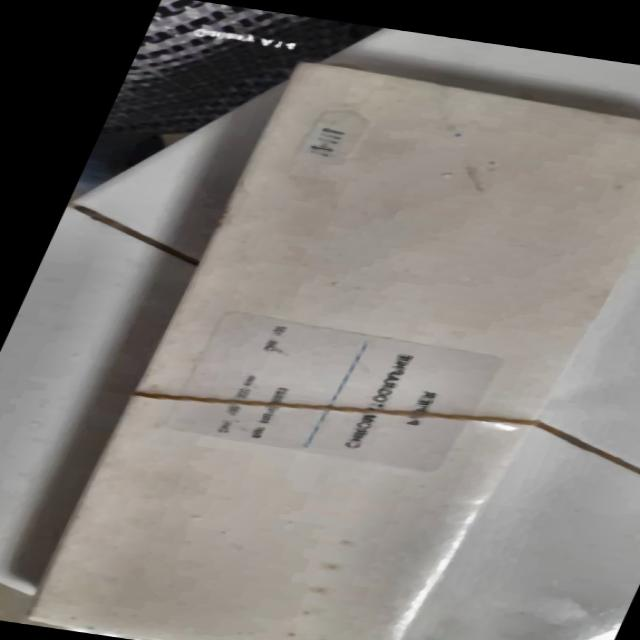Paper Chromatography: (38, 62, 640, 640)
